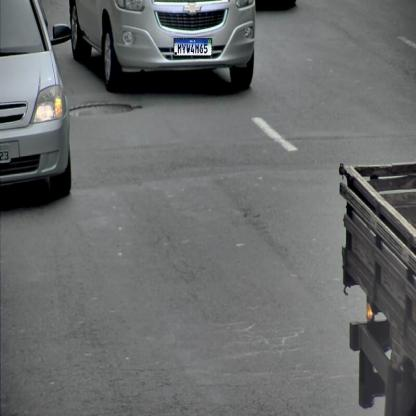PlacaM: (174, 38, 212, 56)
